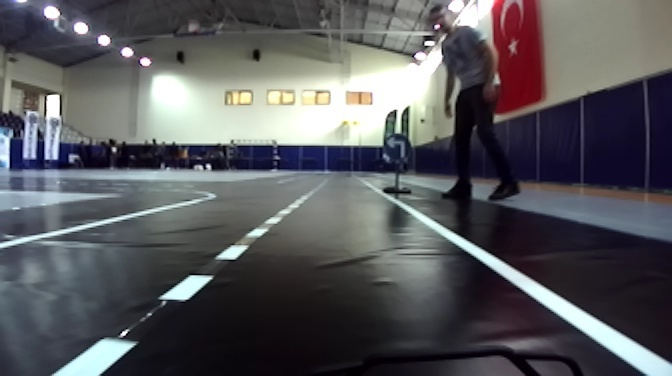sola_donus: (380, 131, 411, 158)
